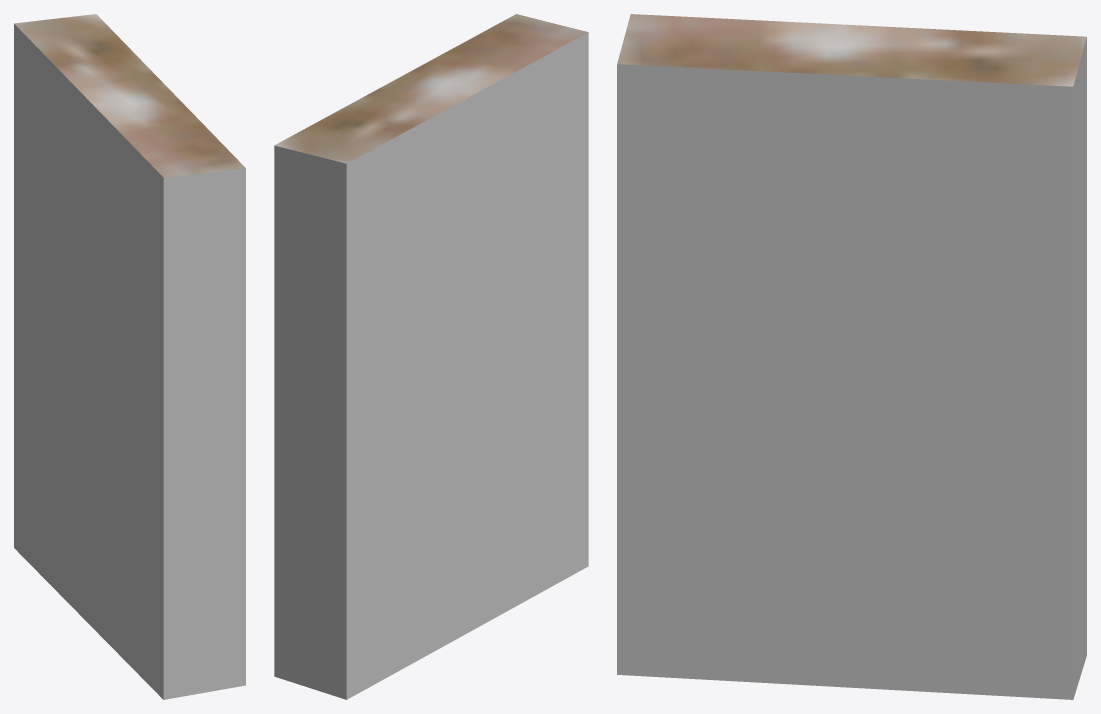
File: DEBW_0010007THVS.gltf
The picture shows the model from 3 angles, left to right: view 1: azimuth 30°, elevation 25°; view 2: azimuth 150°, elevation 25°; view 3: azimuth 270°, elevation 25°; orthographic projection. The views are drawn at different scales.
Visible parts, largest first — view 1: Z_UP; view 2: Z_UP; view 3: Z_UP.
Boxes of the visible parts, x1=… form: Z_UP: x1=14, y1=14, x2=245, y2=699; Z_UP: x1=274, y1=14, x2=588, y2=699; Z_UP: x1=617, y1=14, x2=1086, y2=699.
Bounding box in the file's own units: 1.93 × 8.04 × 5.53.
2 materials, 1 textured.
